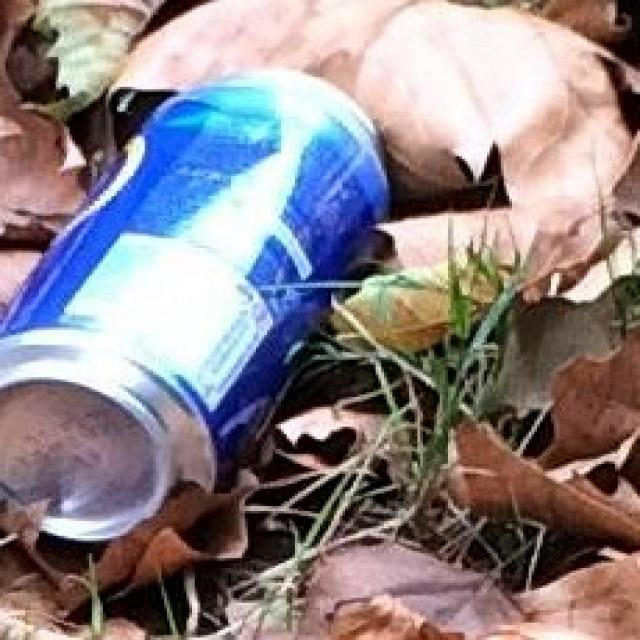Metal: (0, 60, 397, 554)
